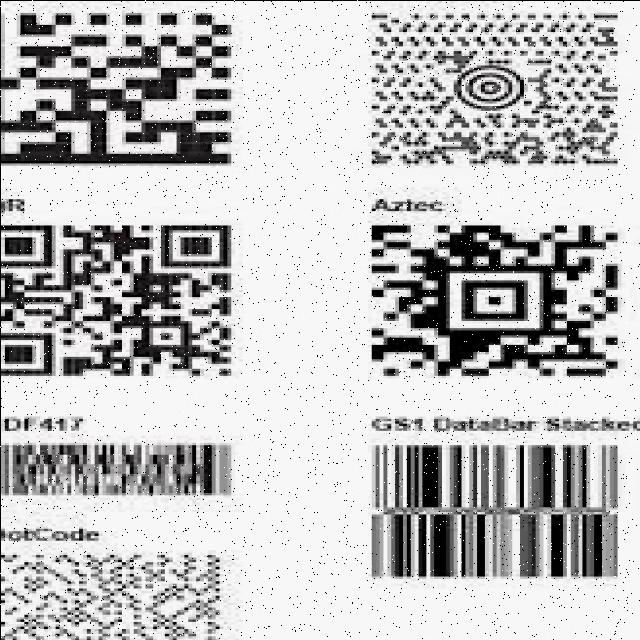datamatrix: (0, 7, 246, 172)
